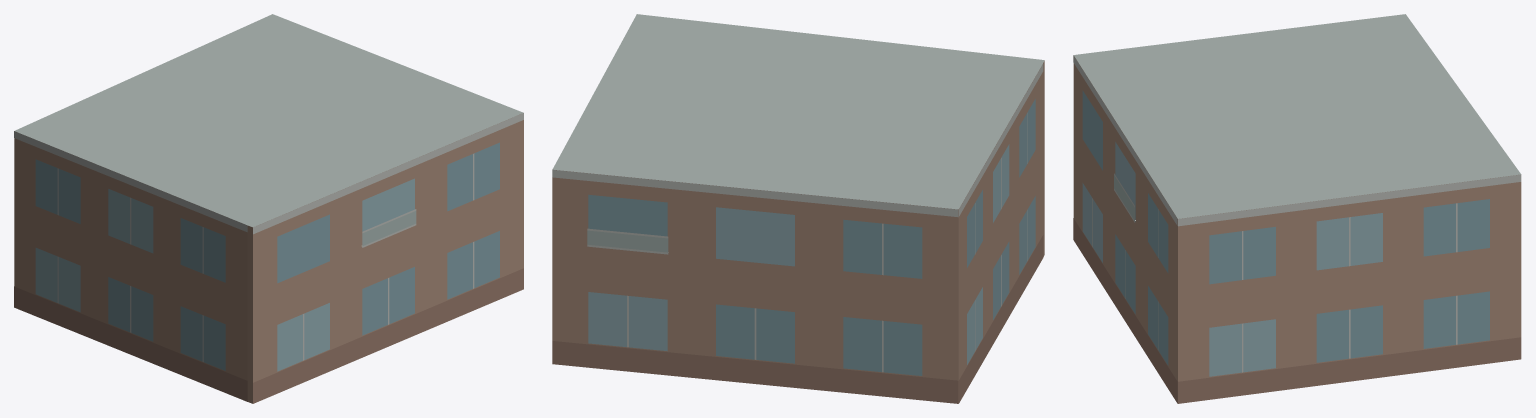
File: survey-upis-32940374.glb
3 views of the same model, side by side, from view 1: azimuth 30°, elevation 25°; view 2: azimuth 150°, elevation 25°; view 3: azimuth 270°, elevation 25° (orthographic). The views are drawn at different scales.
Parts seen in each view (by area): view 1: survey-upis-32940374.tmp; view 2: survey-upis-32940374.tmp; view 3: survey-upis-32940374.tmp.
Part boxes in pixels (<box>): survey-upis-32940374.tmp: <box>14,14,523,403</box>; survey-upis-32940374.tmp: <box>552,14,1044,403</box>; survey-upis-32940374.tmp: <box>1073,14,1521,403</box>.
Size of the model in its own units: 14.51 by 6.1 by 13.4.
